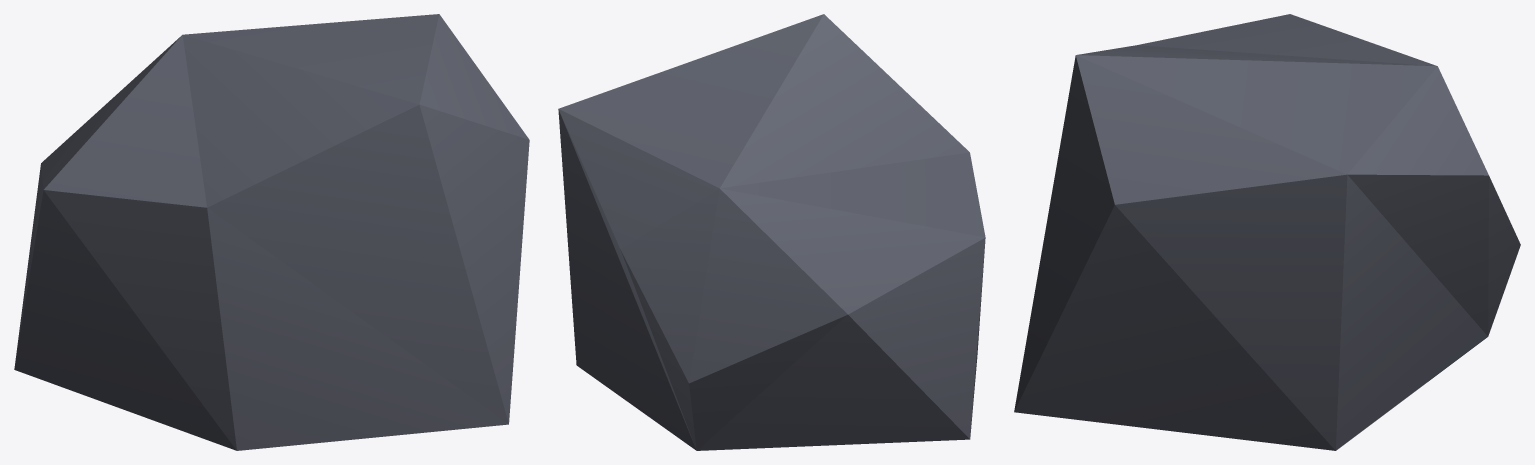
The model's file is Rock_02.fbx.
3 views of the same model, side by side, from view 1: azimuth 30°, elevation 25°; view 2: azimuth 150°, elevation 25°; view 3: azimuth 270°, elevation 25° (orthographic). The views are drawn at different scales.
Visible parts, largest first — view 1: Rock_02; view 2: Rock_02; view 3: Rock_02.
Part boxes in pixels (left/top/right/bottom): Rock_02: left=14, top=14, right=529, bottom=450; Rock_02: left=558, top=14, right=985, bottom=450; Rock_02: left=1014, top=14, right=1520, bottom=450.
Size of the model in its own units: 0.9709 by 0.6757 by 0.9502.
